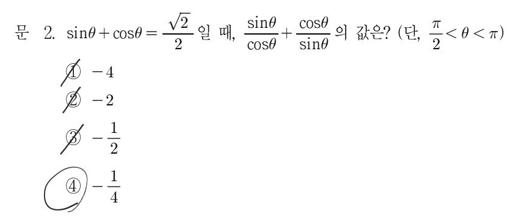1: (41, 165, 89, 215)
paper: (62, 176, 83, 196), (62, 127, 83, 147), (62, 91, 83, 111), (62, 62, 83, 82)
